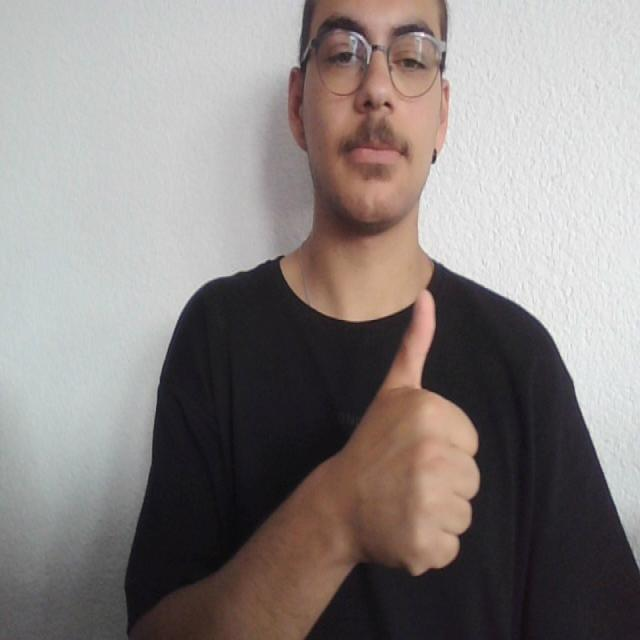Tamam: (332, 282, 486, 579)
